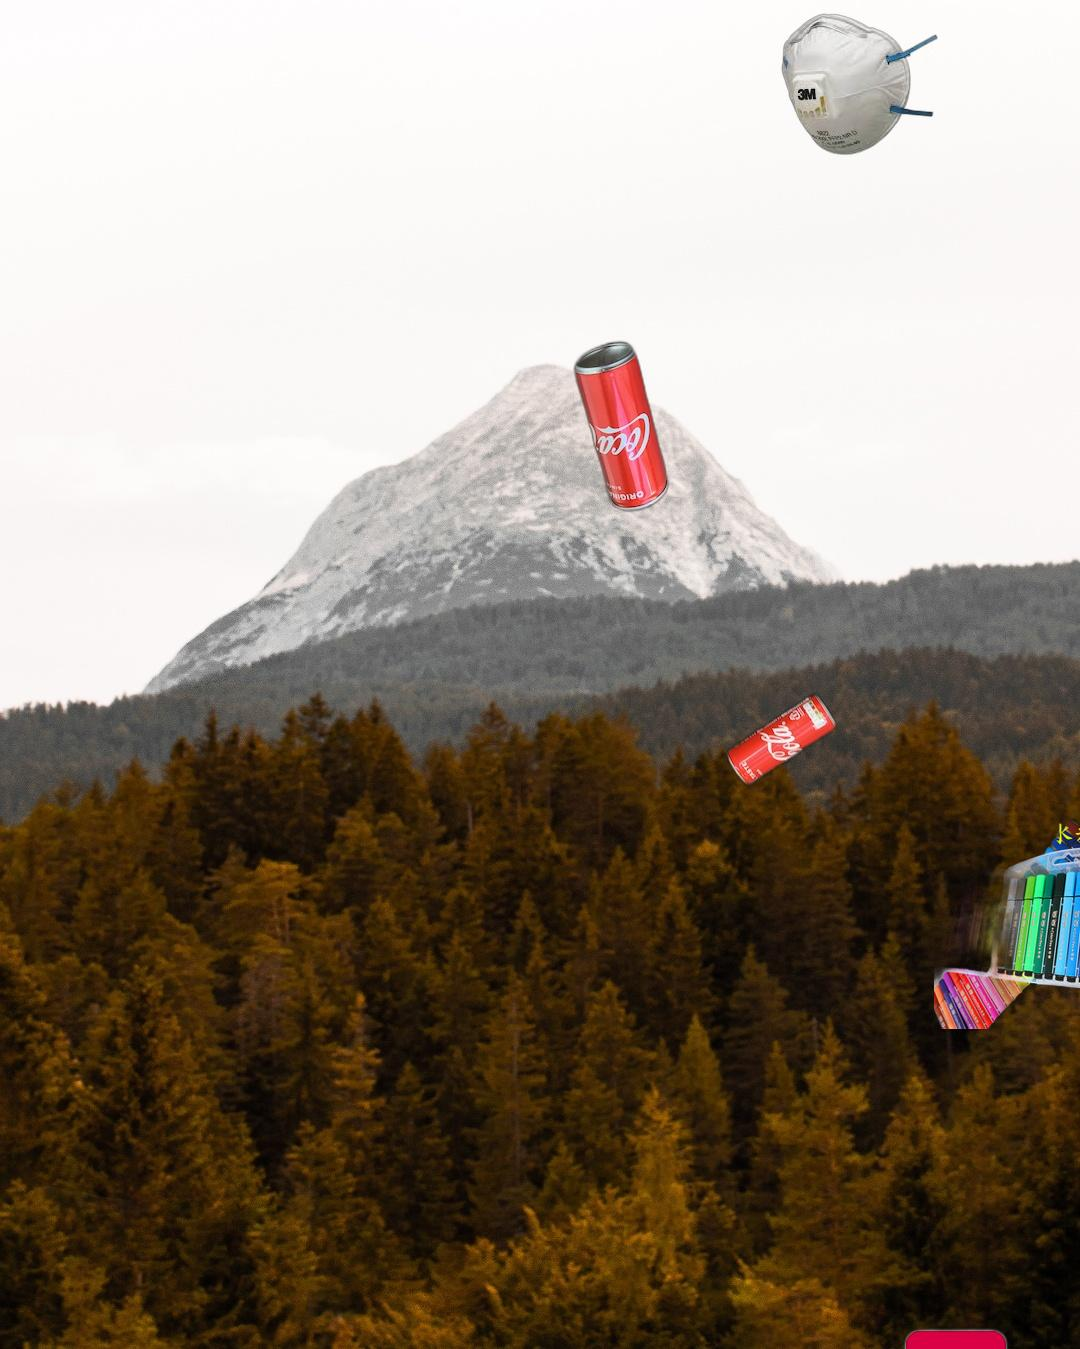metal-cans: (571, 336, 673, 516), (722, 688, 841, 792)
penholder: (935, 819, 1080, 1029), (874, 1301, 1080, 1349)
trash: (779, 11, 940, 158)
